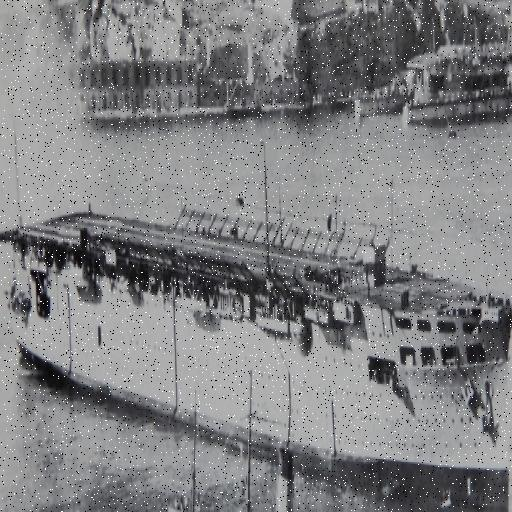Portanaves: (1, 174, 512, 512)
